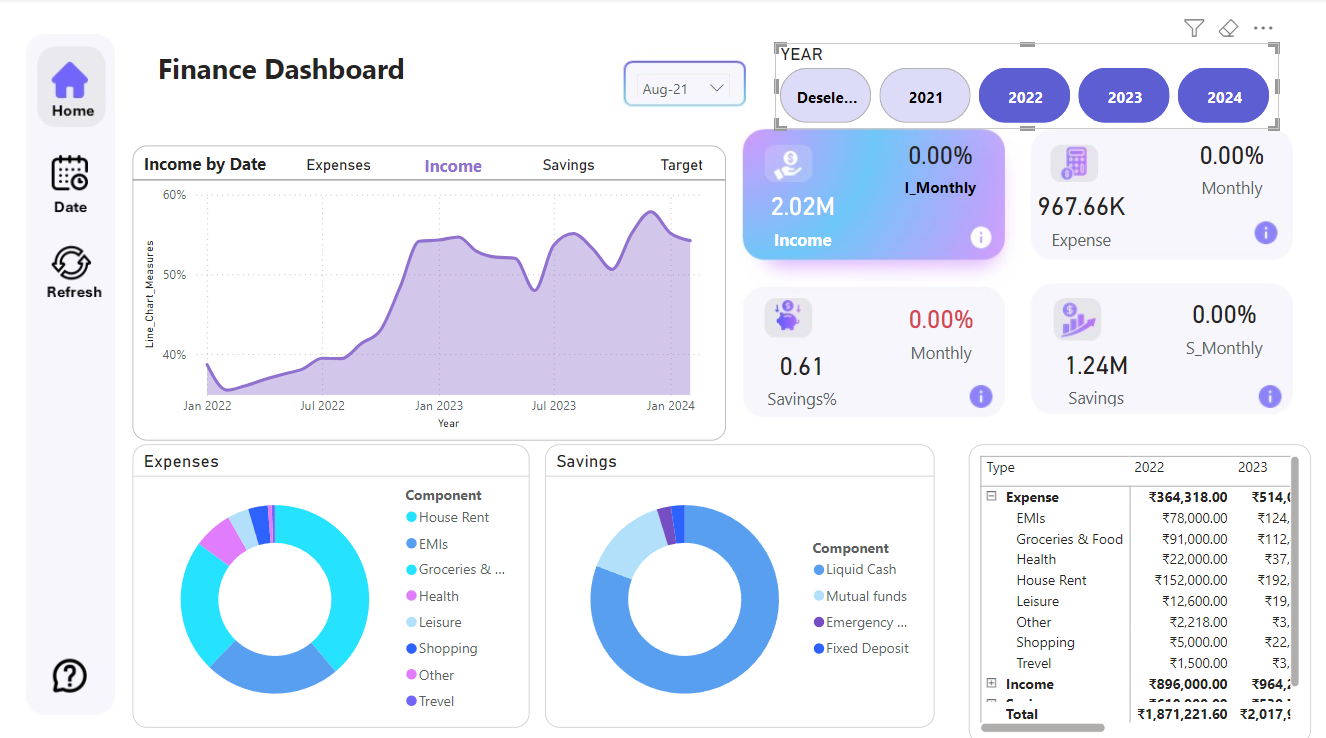

This screenshot's page, from the dashboard's own definition file:
{"tool":"powerbi","page":{"name":"Page 1","canvas":[1280,720],"ordinal":0},"visuals":[{"type":"advancedSlicerVisual","fields":{"Values":["Dataset.YEAR"]},"box":[747.9,43.9,485.8,82.3],"z":0},{"type":"donutChart","title":"Savings ","fields":{"Y":["Dataset.Savings"],"Category":["Dataset.Component"]},"box":[526,430.5,376.3,273.7],"z":2000},{"type":"donutChart","title":"Expenses","fields":{"Y":["Dataset.Expense"],"Category":["Dataset.Component"]},"box":[128.3,430.5,383.4,273.7],"z":4000},{"type":"card","fields":{"Values":["Dataset.Expense"]},"box":[976.4,171,135.4,79.8],"z":5000},{"type":"lineChart","fields":{"Category":["Dataset.Date.Variation.Date Hierarchy.Year","Dataset.Date.Variation.Date Hierarchy.Quarter","Dataset.Date.Variation.Date Hierarchy.Month","Dataset.Date.Variation.Date Hierarchy.Day"],"Y":["Dataset.Line_Chart_Measures"]},"box":[127.9,142.4,573.1,284.7],"z":6000},{"type":"card","fields":{"Values":["Dataset.Savings"]},"box":[1005,329.4,106.2,70],"z":7000},{"type":"card","fields":{"Values":["Dataset.Savings%"]},"box":[714.1,320.7,119.7,88.4],"z":8000},{"type":"pivotTable","fields":{"Rows":["Dataset.Type","Dataset.Component"],"Columns":["Dataset.YEAR"],"Values":["Dataset.Total_Value"]},"box":[935.1,430.5,330.7,289.4],"z":9000},{"type":"advancedSlicerVisual","fields":{"Values":["Line_Selection_Table.Type"]},"box":[277.5,130.3,460.9,62.7],"z":10000},{"type":"textbox","box":[146.8,44.2,260.8,51.3],"z":11000},{"type":"slicer","fields":{"Values":["Selected_Date.Month-yr"]},"box":[604.4,62.7,109.8,32.8],"z":12000},{"type":"card","fields":{"Values":["Dataset.Expenses_Monthly_Gr"]},"box":[826.4,267.8,164.1,105],"z":13000},{"type":"card","fields":{"Values":["Dataset.Income"]},"box":[691.3,171,166.8,79.8],"z":14000},{"type":"card","fields":{"Values":["Dataset.Income_Monthly_Gr"]},"box":[832.4,71.2,150.8,179.8],"z":15000},{"type":"card","fields":{"Values":["Dataset.Savings_Monthly_Gr"]},"box":[1083.4,271.4,196.6,88.1],"z":16000},{"type":"card","fields":{"Values":["Dataset.Expenses_Monthly_Gr"]},"box":[1097.9,100.1,182.2,123.1],"z":17000}]}

Visuals, with their boxes on the page's 1280x720 design canvas (x1, y1, x2, y2). These are canvas units, not pixel positions in the 1326x738 screenshot, which may show the page scaled, cropped or inside an application window:
advancedSlicerVisual - Dataset.YEAR: 748 44 1234 126
"Savings " donutChart: 526 430 902 704
"Expenses" donutChart: 128 430 512 704
card - Dataset.Expense: 976 171 1112 251
lineChart - Dataset.Date.Variation.Date Hierarchy.Year x Dataset.Date.Variation.Date Hierarchy.Quarter: 128 142 701 427
card - Dataset.Savings: 1005 329 1111 399
card - Dataset.Savings%: 714 321 834 409
pivotTable - Dataset.Type x Dataset.Component: 935 430 1266 720
advancedSlicerVisual - Line_Selection_Table.Type: 278 130 738 193
textbox: 147 44 408 96
slicer - Selected_Date.Month-yr: 604 63 714 96
card - Dataset.Expenses_Monthly_Gr: 826 268 990 373
card - Dataset.Income: 691 171 858 251
card - Dataset.Income_Monthly_Gr: 832 71 983 251
card - Dataset.Savings_Monthly_Gr: 1083 271 1280 360
card - Dataset.Expenses_Monthly_Gr: 1098 100 1280 223
